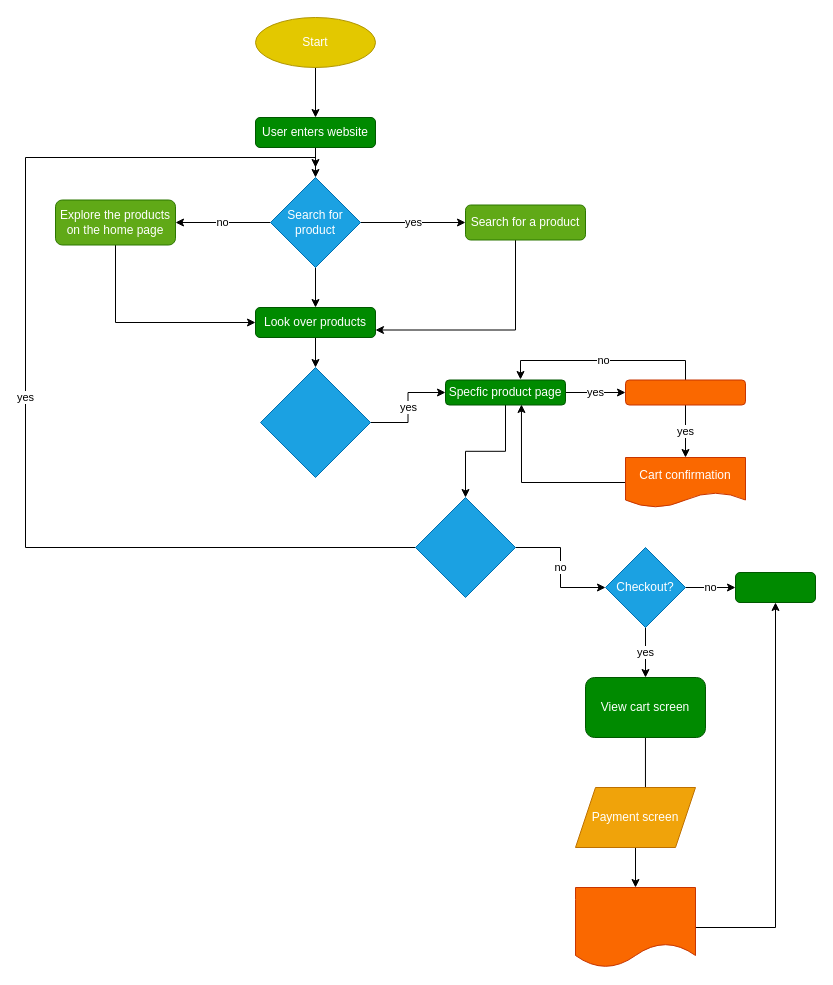
Some shapes in this 833 by 985 pixel diagram are drawn without their labels. Here are the shapes that lost their labels. From the top down, the box of each, then its label:
(624, 379, 746, 405): Add this item to cart?
(260, 366, 370, 478): Viewing specific product
(414, 496, 516, 598): Continue shopping?
(734, 572, 816, 602): leave site
(574, 886, 696, 968): Order confirmation and email
